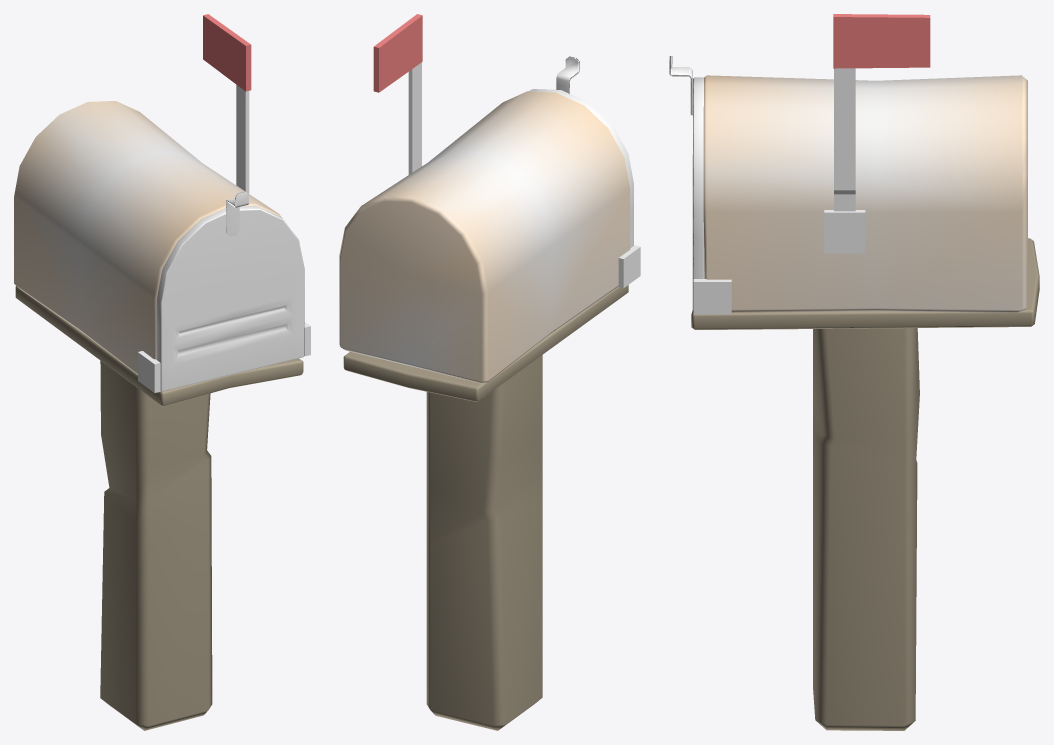
File: MESH_Mailbox.fbx
3 views of the same model, side by side, from view 1: azimuth 30°, elevation 25°; view 2: azimuth 150°, elevation 25°; view 3: azimuth 270°, elevation 25° (orthographic). The views are drawn at different scales.
Parts seen in each view (by area): view 1: Box, Post, Flap, Platform, FlagItself, Flag, FlapHinge, pCube5; view 2: Box, Post, Platform, FlagItself, Flag, Flap, FlapHinge, pCube5; view 3: Box, Post, Platform, FlagItself, Flag, Flap, FlagHinge, FlapHinge1.
Boxes of the visible parts, x1,y1,x2,y2 form: Box: (14,101,282,374); Post: (100,360,212,730); Flap: (156,205,304,391); Platform: (15,286,303,406); FlagItself: (203,14,251,91); Flag: (236,85,249,193); FlapHinge: (138,351,160,392); pCube5: (226,191,248,236); Box: (339,91,630,383); Post: (426,355,542,730); Platform: (343,285,628,401); FlagItself: (373,14,422,92); Flag: (408,62,421,174); Flap: (528,89,633,247); FlapHinge: (617,245,640,288); pCube5: (556,56,579,93); Box: (703,75,1027,312); Post: (813,328,919,730); Platform: (691,238,1039,329); FlagItself: (833,14,930,68); Flag: (834,68,855,211); Flap: (692,77,704,310); FlagHinge: (824,210,865,253); FlapHinge1: (693,279,731,314).
Bounding box in the file's own units: 0.3469 × 1.37 × 0.6219.
